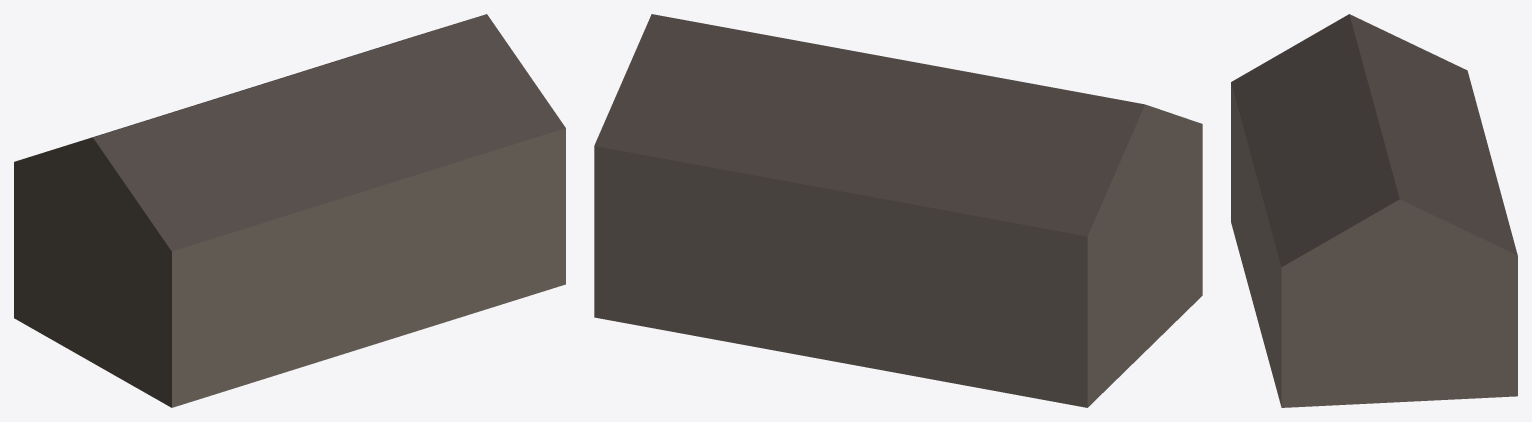
3 views of the same model, side by side, from view 1: azimuth 30°, elevation 25°; view 2: azimuth 150°, elevation 25°; view 3: azimuth 270°, elevation 25° (orthographic). The views are drawn at different scales.
Visible parts, largest first — view 1: HP-w859424190; view 2: HP-w859424190; view 3: HP-w859424190.
Part boxes in pixels (left/top/right/bottom): HP-w859424190: left=14, top=14, right=565, bottom=407; HP-w859424190: left=594, top=14, right=1202, bottom=407; HP-w859424190: left=1231, top=14, right=1517, bottom=407.
Size of the model in its own units: 27.02 by 12.99 by 16.63.
